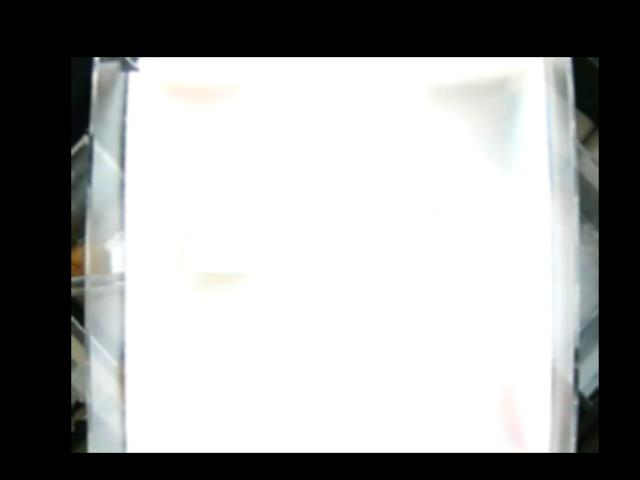Cup: (186, 184, 278, 278)
